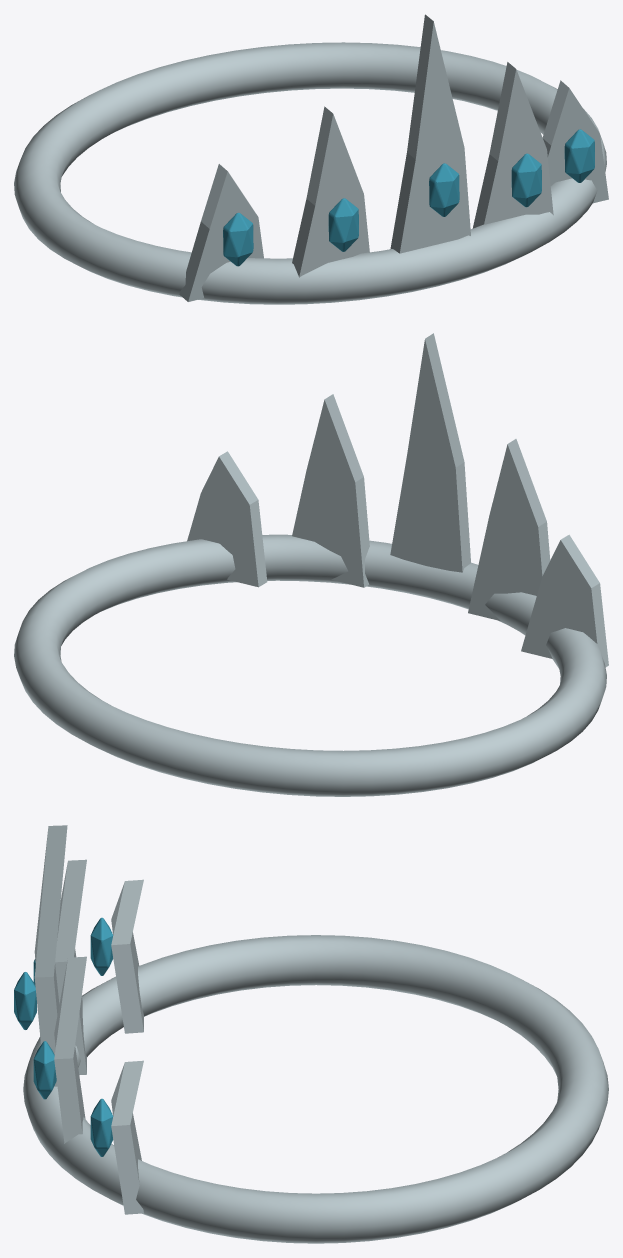
File: runic-tiara.glb
The picture shows the model from 3 angles, top to bottom: view 1: azimuth 30°, elevation 25°; view 2: azimuth 150°, elevation 25°; view 3: azimuth 270°, elevation 25°; orthographic projection. The views are drawn at different scales.
Parts seen in each view (by area): view 1: Runic tiara band, Pointed silver tiara plate.002, Pointed silver tiara plate.003, Pointed silver tiara plate.001, Pointed silver tiara plate, Pointed silver tiara plate.004, Inset runic stone, Inset runic stone.002, Inset runic stone.001, Inset runic stone.003, Inset runic stone.004; view 2: Runic tiara band, Pointed silver tiara plate.002, Pointed silver tiara plate.003, Pointed silver tiara plate.001, Pointed silver tiara plate.004, Pointed silver tiara plate; view 3: Runic tiara band, Pointed silver tiara plate.002, Pointed silver tiara plate.003, Pointed silver tiara plate, Pointed silver tiara plate.004, Pointed silver tiara plate.001, Inset runic stone.002, Inset runic stone.003, Inset runic stone, Inset runic stone.004.
Part boxes in pixels (left/top/right/bottom): Runic tiara band: left=14, top=42, right=606, bottom=304; Pointed silver tiara plate.002: left=390, top=14, right=470, bottom=253; Pointed silver tiara plate.003: left=472, top=62, right=553, bottom=228; Pointed silver tiara plate.001: left=292, top=106, right=369, bottom=277; Pointed silver tiara plate: left=179, top=164, right=263, bottom=301; Pointed silver tiara plate.004: left=542, top=80, right=608, bottom=203; Inset runic stone: left=223, top=212, right=253, bottom=266; Inset runic stone.002: left=429, top=163, right=459, bottom=216; Inset runic stone.001: left=328, top=198, right=358, bottom=251; Inset runic stone.003: left=511, top=153, right=541, bottom=207; Inset runic stone.004: left=564, top=129, right=594, bottom=182; Runic tiara band: left=14, top=534, right=606, bottom=796; Pointed silver tiara plate.002: left=390, top=333, right=470, bottom=572; Pointed silver tiara plate.003: left=292, top=394, right=369, bottom=587; Pointed silver tiara plate.001: left=468, top=439, right=550, bottom=620; Pointed silver tiara plate.004: left=187, top=451, right=267, bottom=587; Pointed silver tiara plate: left=521, top=534, right=608, bottom=666; Runic tiara band: left=23, top=935, right=608, bottom=1243; Pointed silver tiara plate.002: left=34, top=825, right=67, bottom=1086; Pointed silver tiara plate.003: left=54, top=956, right=86, bottom=1143; Pointed silver tiara plate: left=111, top=879, right=143, bottom=1033; Pointed silver tiara plate.004: left=111, top=1060, right=143, bottom=1214; Pointed silver tiara plate.001: left=55, top=859, right=86, bottom=1075; Inset runic stone.002: left=14, top=972, right=36, bottom=1029; Inset runic stone.003: left=33, top=1041, right=56, bottom=1099; Inset runic stone: left=90, top=917, right=113, bottom=975; Inset runic stone.004: left=90, top=1098, right=113, bottom=1156.
Size of the model in its own units: 0.866 by 0.4124 by 0.7781.
